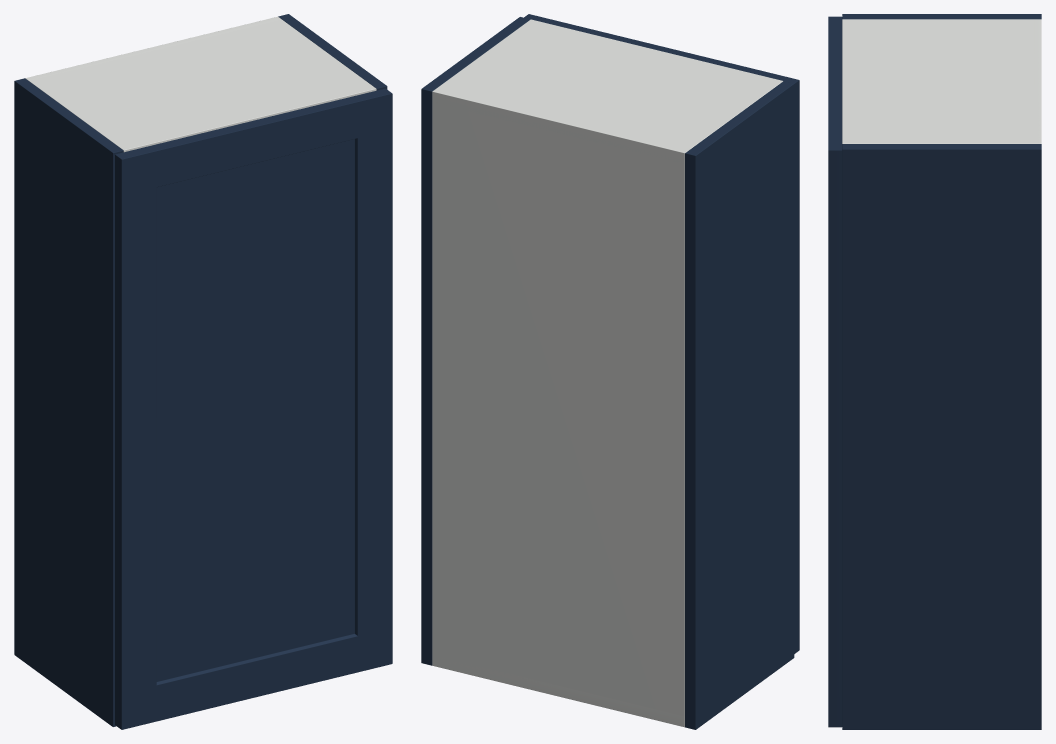
File: oppein-pb-bss-w1836.glb
3 views of the same model, side by side, from view 1: azimuth 30°, elevation 25°; view 2: azimuth 150°, elevation 25°; view 3: azimuth 270°, elevation 25° (orthographic).
Parts seen in each view (by area): view 1: Door, Cabinet side, Cabinet top, Cabinet side.001, Cabinet back; view 2: Cabinet back, Cabinet side, Cabinet top, Cabinet side.001, Door, Cabinet bottom; view 3: Cabinet side.001, Cabinet top, Door, Cabinet side, Cabinet back.
Boxes of the visible parts, x1,y1,x2,y2 form: Door: (115,88,392,729); Cabinet side: (14,78,123,726); Cabinet top: (26,19,376,152); Cabinet side.001: (278,14,387,90); Cabinet back: (25,16,280,80); Cabinet back: (432,88,688,716); Cabinet side: (685,81,794,729); Cabinet top: (432,19,782,161); Cabinet side.001: (421,17,530,665); Door: (524,14,799,653); Cabinet bottom: (432,660,684,727); Cabinet side.001: (842,144,1041,729); Cabinet top: (842,19,1040,143); Door: (828,16,842,727); Cabinet side: (842,14,1041,19); Cabinet back: (1033,19,1041,143).
Bounding box in the file's own units: 0.4572 × 0.9144 × 0.3048.
